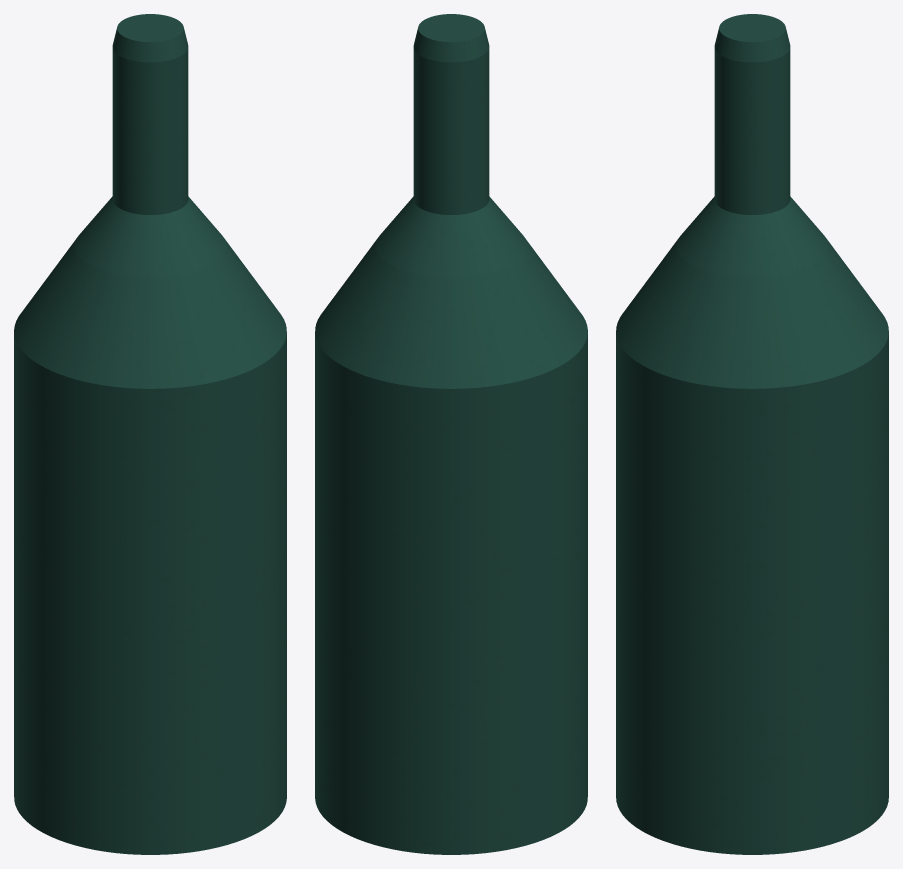
Rendered from misc_com_bottle_08.dae.
3 renders of one model, left to right at view 1: azimuth 30°, elevation 25°; view 2: azimuth 150°, elevation 25°; view 3: azimuth 270°, elevation 25°, orthographic.
Parts seen in each view (by area): view 1: jade; view 2: jade; view 3: jade.
Part boxes in pixels (x1,y1,x2,y2): jade: [14, 14, 286, 854]; jade: [315, 14, 587, 854]; jade: [616, 14, 888, 854].
Bounding box in the file's own units: 10.75 × 10.75 × 33.8.
